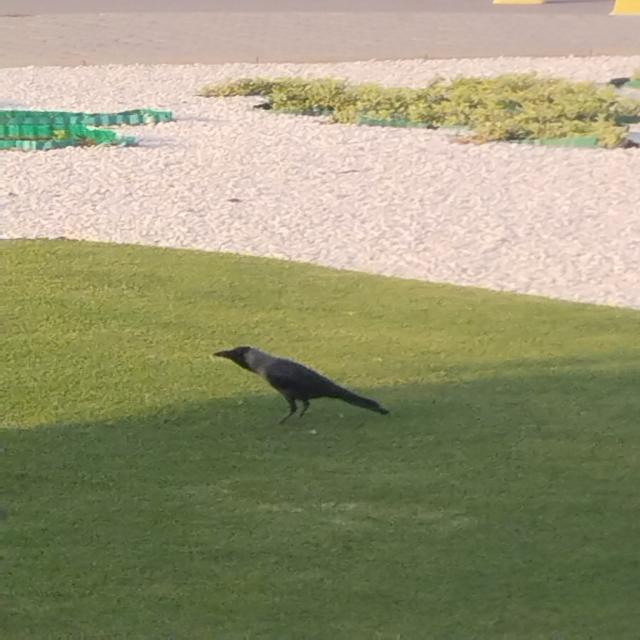bird: (211, 343, 395, 429)
